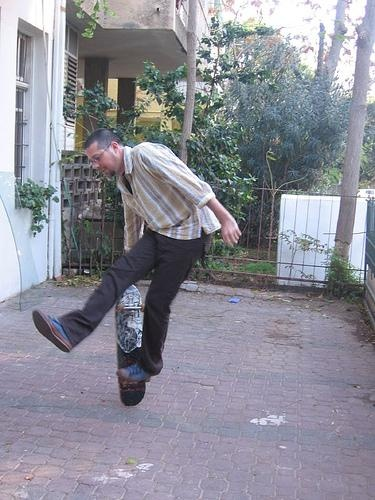person: (23, 126, 245, 392)
